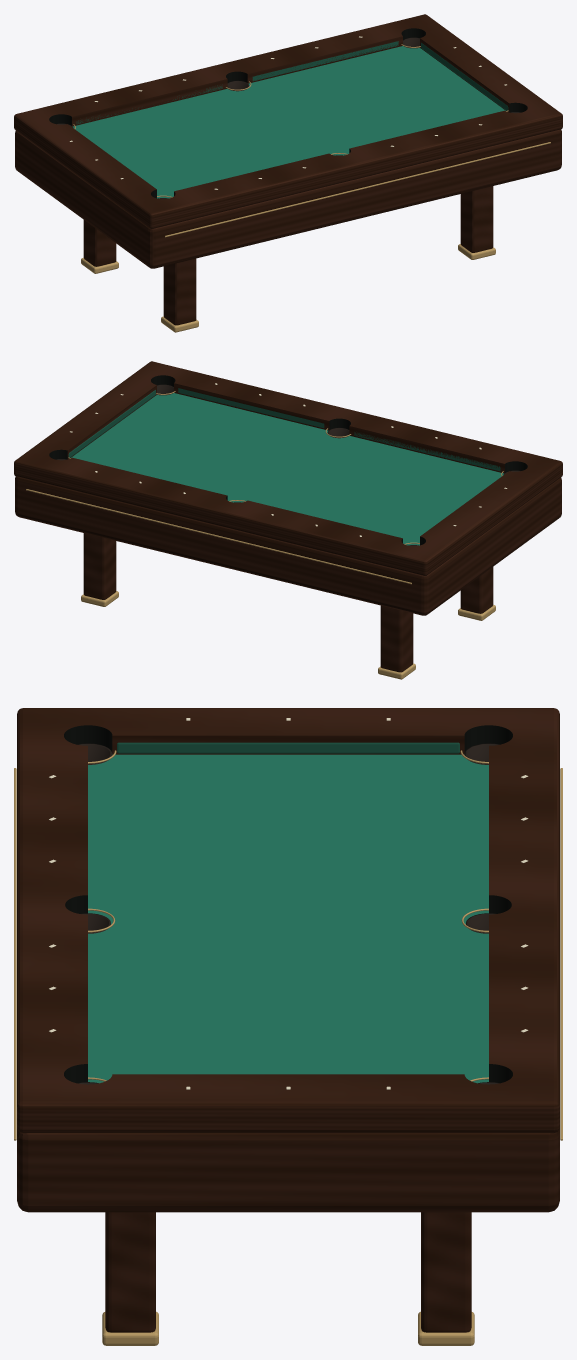
The model's file is club-table.glb.
The picture shows the model from 3 angles, top to bottom: view 1: azimuth 30°, elevation 25°; view 2: azimuth 150°, elevation 25°; view 3: azimuth 270°, elevation 25°; orthographic projection. The views are drawn at different scales.
Parts seen in each view (by area): view 1: Walnut rail frame, Tournament cloth, Solid walnut cabinet, Tapered walnut leg, Tapered walnut leg.002, Tapered walnut leg.001, Cabinet brass accent, Long cushion right.001, Short cushion.001; view 2: Walnut rail frame, Tournament cloth, Solid walnut cabinet, Tapered walnut leg.001, Tapered walnut leg.003, Tapered walnut leg, Cabinet brass accent.001, Long cushion right, Long cushion left, Short cushion.001; view 3: Tournament cloth, Walnut rail frame, Solid walnut cabinet, Tapered walnut leg.002, Tapered walnut leg.003, Short cushion, Cabinet brass accent, Cabinet brass accent.001, Brass levelling foot.002, Brass levelling foot.003.
Part boxes in pixels (x1=…): Walnut rail frame: x1=14, y1=14, x2=562, y2=228; Tournament cloth: x1=73, y1=46, x2=505, y2=198; Solid walnut cabinet: x1=15, y1=129, x2=561, y2=268; Tapered walnut leg: x1=163, y1=258, x2=196, y2=325; Tapered walnut leg.002: x1=460, y1=186, x2=493, y2=252; Tapered walnut leg.001: x1=83, y1=220, x2=116, y2=266; Cabinet brass accent: x1=165, y1=142, x2=550, y2=237; Long cushion right.001: x1=252, y1=41, x2=398, y2=81; Short cushion.001: x1=421, y1=43, x2=508, y2=110; Walnut rail frame: x1=14, y1=361, x2=562, y2=575; Tournament cloth: x1=71, y1=393, x2=503, y2=545; Solid walnut cabinet: x1=15, y1=476, x2=561, y2=615; Tapered walnut leg.001: x1=380, y1=605, x2=413, y2=672; Tapered walnut leg.003: x1=83, y1=533, x2=116, y2=599; Tapered walnut leg: x1=460, y1=567, x2=493, y2=613; Cabinet brass accent.001: x1=26, y1=489, x2=411, y2=584; Long cushion right: x1=178, y1=388, x2=324, y2=428; Long cushion left: x1=354, y1=431, x2=500, y2=471; Short cushion.001: x1=68, y1=390, x2=155, y2=457; Tournament cloth: x1=88, y1=754, x2=488, y2=1083; Walnut rail frame: x1=17, y1=708, x2=559, y2=1133; Solid walnut cabinet: x1=17, y1=1128, x2=559, y2=1212; Tapered walnut leg.002: x1=105, y1=1212, x2=155, y2=1332; Tapered walnut leg.003: x1=421, y1=1212, x2=471, y2=1332; Short cushion: x1=117, y1=742, x2=459, y2=753; Cabinet brass accent: x1=14, y1=768, x2=16, y2=1140; Cabinet brass accent.001: x1=560, y1=768, x2=562, y2=1140; Brass levelling foot.002: x1=102, y1=1311, x2=158, y2=1345; Brass levelling foot.003: x1=418, y1=1311, x2=474, y2=1345.
Size of the model in its own units: 2.98 by 1.01 by 1.74.
Materials: 7 (1 with a texture image).
